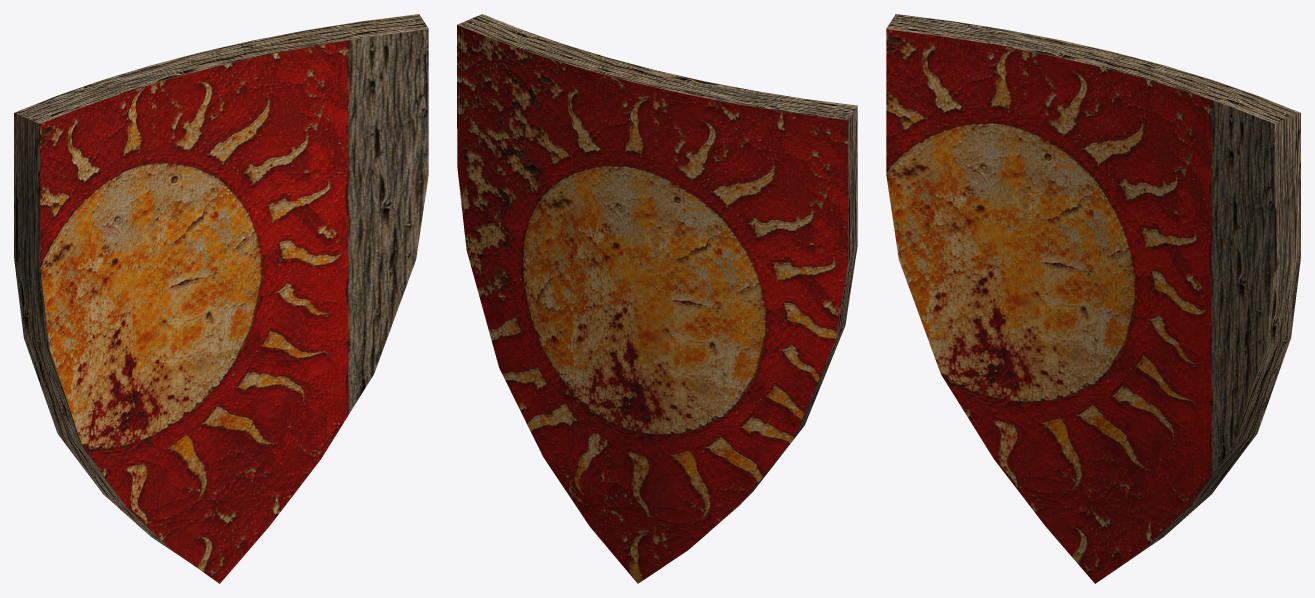
File: mm9_deco_shield3r.glb
3 views of the same model, side by side, from view 1: azimuth 30°, elevation 25°; view 2: azimuth 150°, elevation 25°; view 3: azimuth 330°, elevation 25° (orthographic). The views are drawn at different scales.
Visible parts, largest first — view 1: Shield3r; view 2: Shield3r; view 3: Shield3r.
Boxes of the visible parts, x1,y1,x2,y2 form: Shield3r: (14,14,428,583); Shield3r: (457,14,857,583); Shield3r: (886,14,1300,583).
Bounding box in the file's own units: 0.9023 × 1.1 × 0.1288.
Materials: 1 (1 with a texture image).
